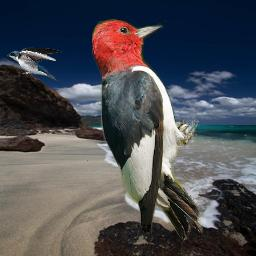Swallow: (7, 47, 62, 81)
Woodpecker: (92, 17, 206, 240)
